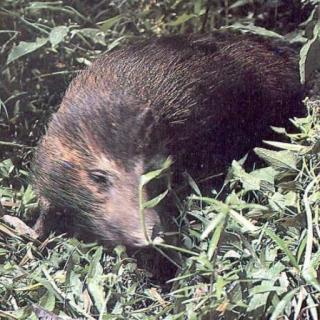Pig: (39, 26, 308, 278)
